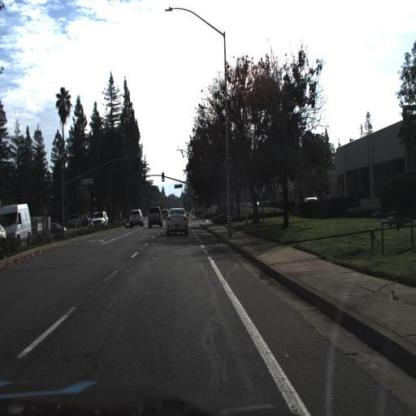car: (2, 205, 33, 245), (166, 204, 192, 240), (149, 209, 167, 236), (91, 213, 112, 233), (129, 208, 145, 233), (91, 211, 109, 230), (217, 201, 235, 219), (53, 222, 69, 238), (303, 194, 321, 208), (160, 206, 170, 220), (124, 213, 132, 225)
trafficLight-Green: (163, 171, 167, 183), (196, 189, 199, 202)
trafficLight-RedLeft: (141, 174, 146, 185), (93, 196, 97, 207)
